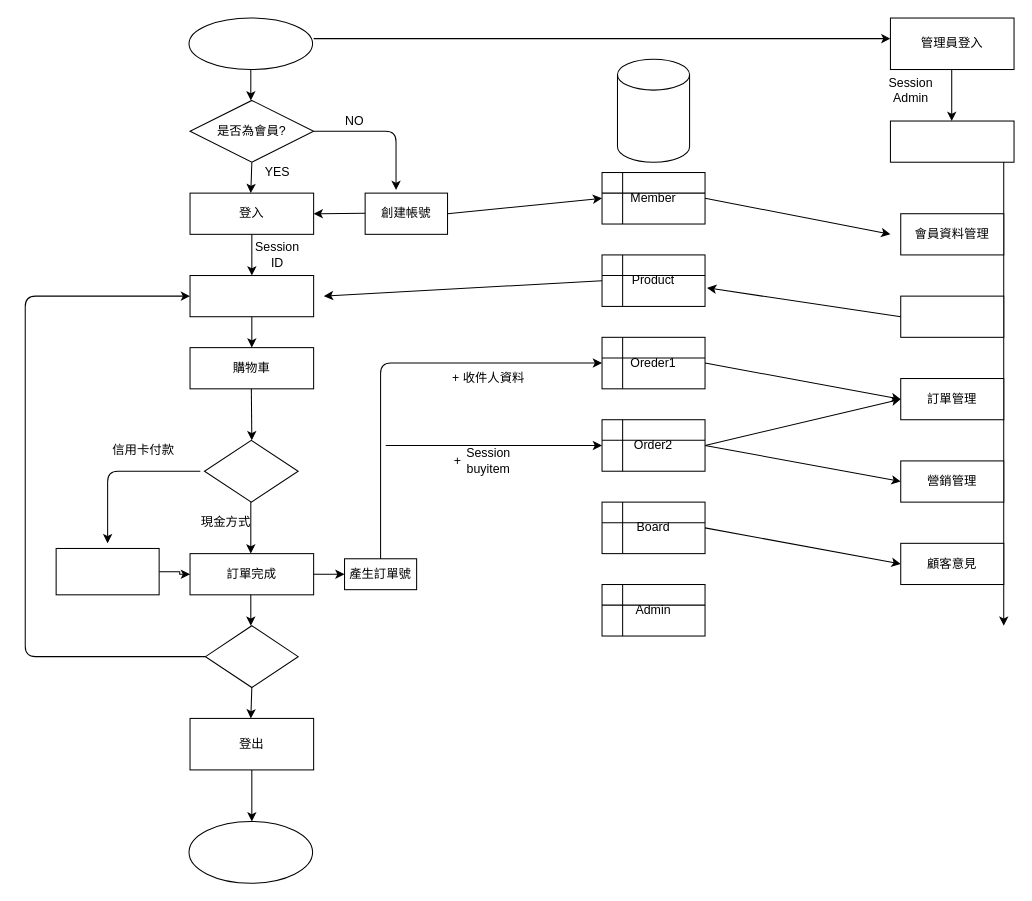
Image size: 1032x901. Some labels were removed from this diagram. The shapes that lost their labels are listed below. From the top down, each one's centre as x and y in pixels, then its label:
the point at 250,43: 首頁
the point at 653,110: database
the point at 951,141: 管理員首頁
the point at 251,295: 瀏覽購物網站
the point at 952,316: 產品管理
the point at 250,470: 結帳頁面
the point at 107,571: 綠界支付網
the point at 251,656: 跳轉首頁
the point at 250,851: END
